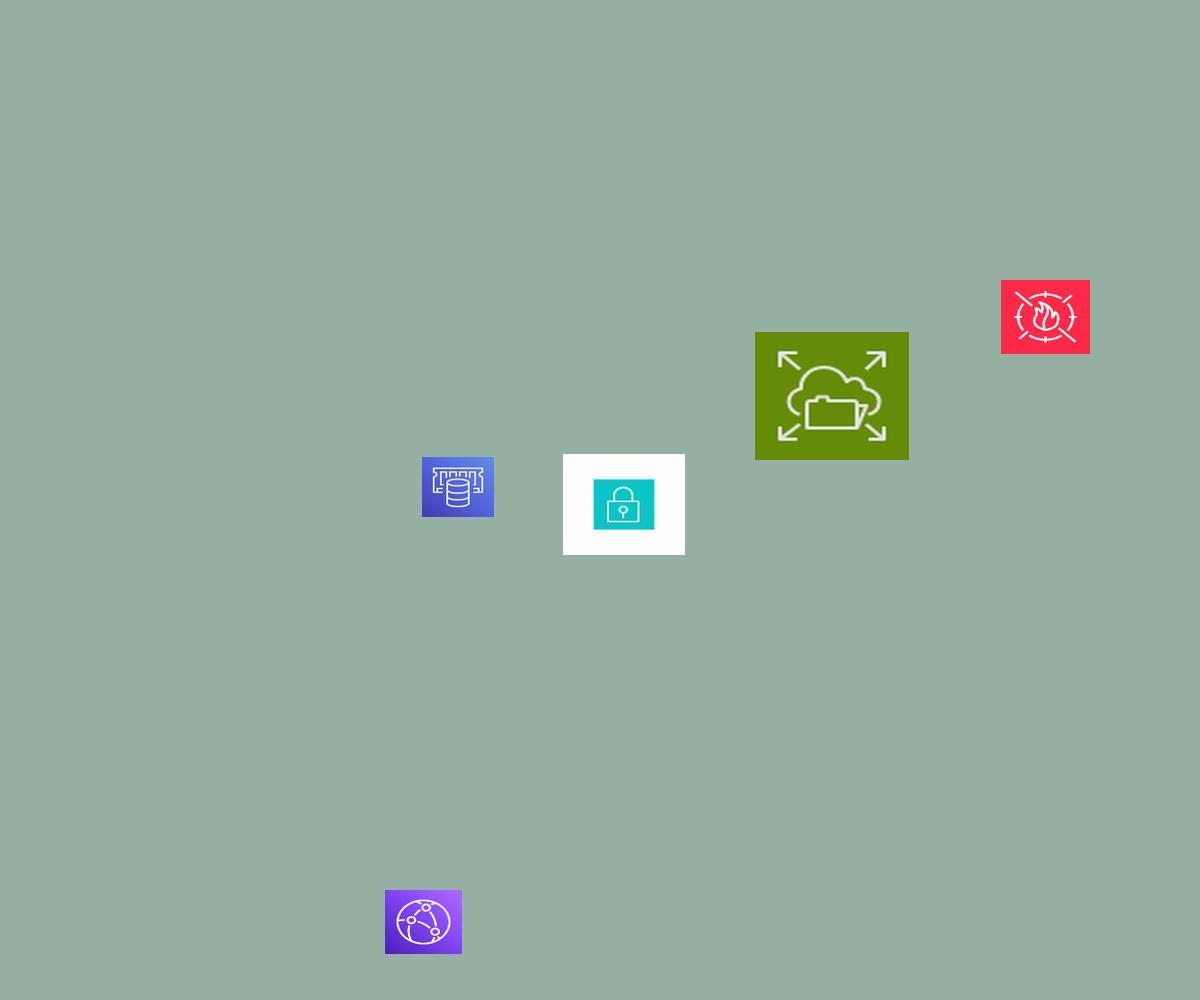AWS-CloudFront: (385, 890, 462, 954)
AWS-EFS: (755, 332, 909, 460)
AWS-ElastiCache: (422, 457, 494, 517)
AWS-Private-subnet: (563, 454, 685, 555)
AWS-WAF: (1001, 280, 1090, 354)
